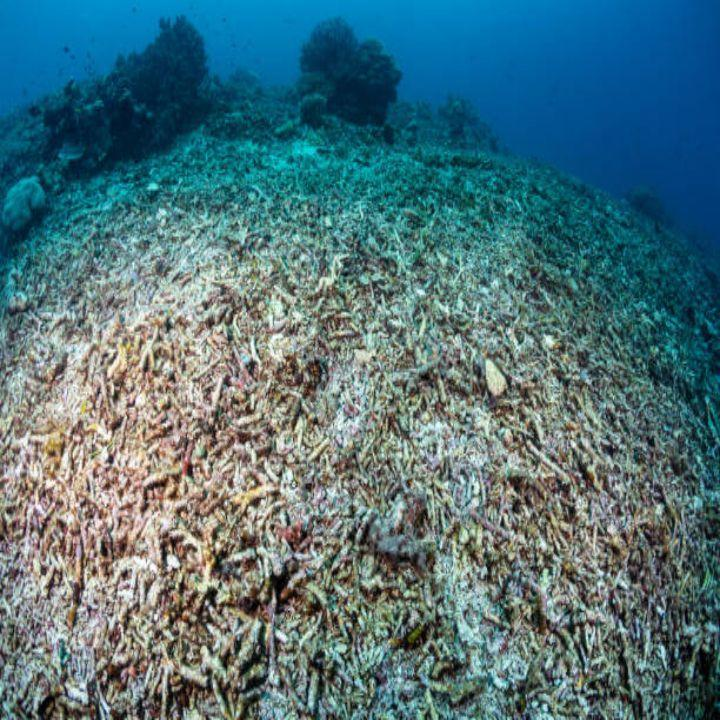Dead Coral: (82, 185, 591, 563)
